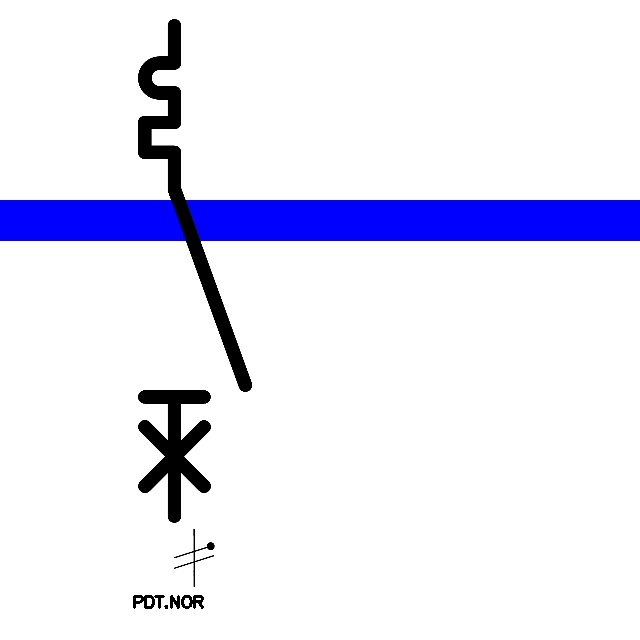interruptor_termomagnetico: (132, 13, 258, 528)
